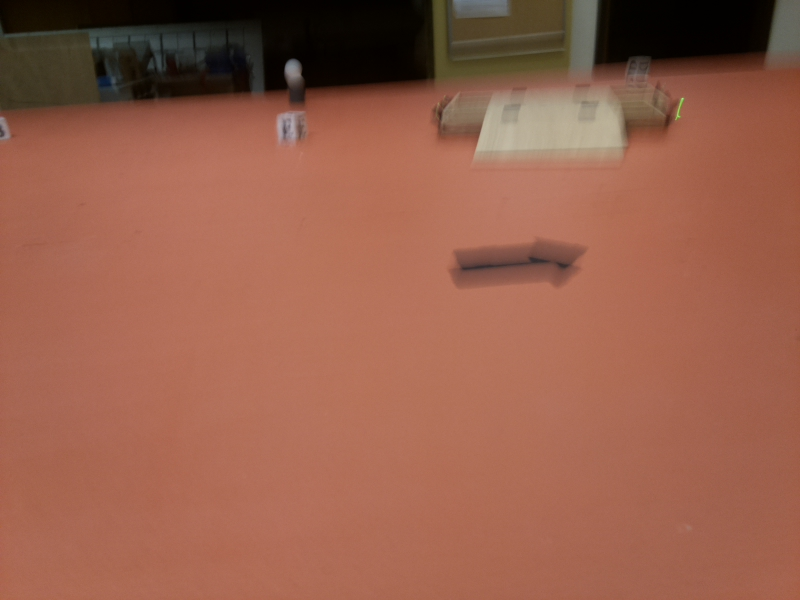blockB: (1, 116, 11, 142)
blockE: (277, 110, 305, 143)
obstacle: (279, 59, 311, 107)
slope: (472, 99, 631, 157)
start: (450, 240, 591, 284)
